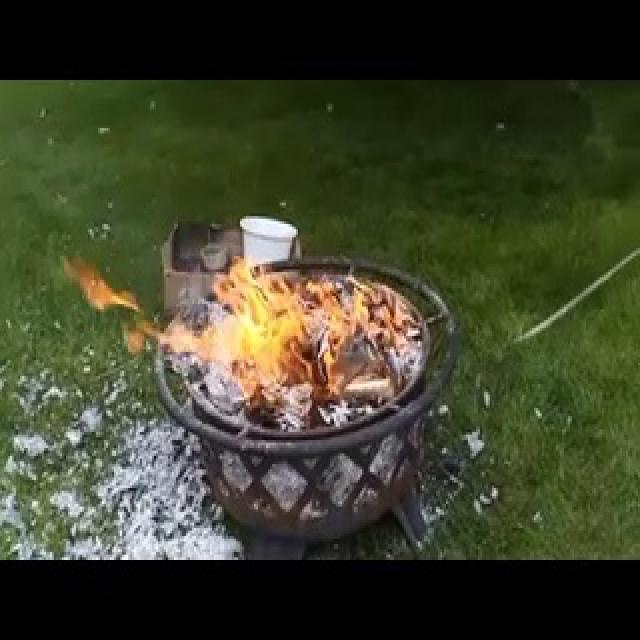fire: (140, 94, 426, 414)
